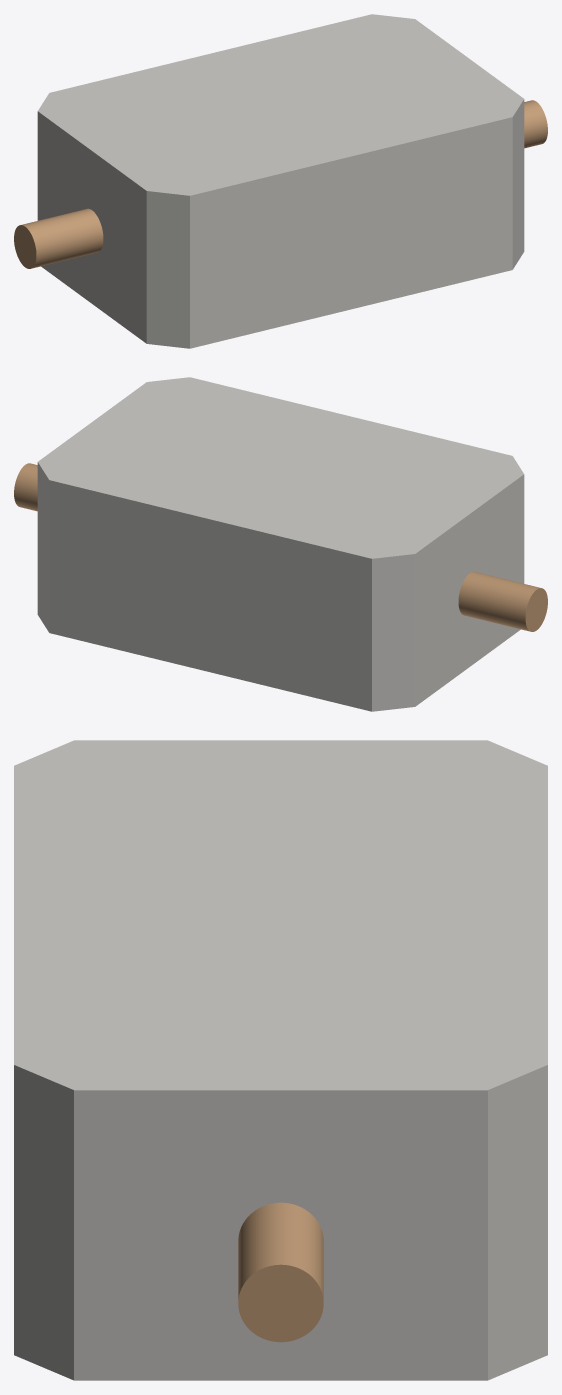
3 views of the same model, one above another, from view 1: azimuth 30°, elevation 25°; view 2: azimuth 150°, elevation 25°; view 3: azimuth 270°, elevation 25° (orthographic). The views are drawn at different scales.
Parts seen in each view (by area): view 1: device_body, flow_channel; view 2: device_body, flow_channel; view 3: device_body, flow_channel.
Boxes of the visible parts, x1,y1,x2,y2 form: device_body: [37, 14, 524, 348]; flow_channel: [14, 100, 547, 268]; device_body: [37, 377, 524, 711]; flow_channel: [14, 463, 547, 631]; device_body: [14, 740, 547, 1380]; flow_channel: [238, 1202, 323, 1342].
Size of the model in its own units: 8.4 by 2.4 by 4.
